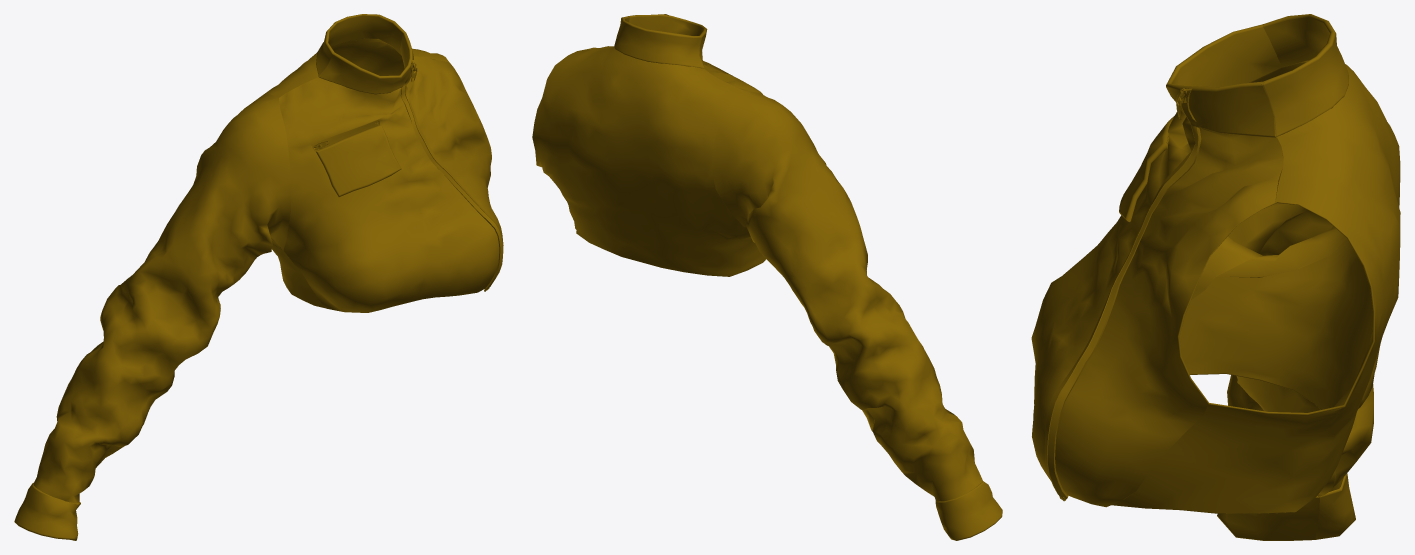
3 views of the same model, side by side, from view 1: azimuth 30°, elevation 25°; view 2: azimuth 150°, elevation 25°; view 3: azimuth 270°, elevation 25° (orthographic). The views are drawn at different scales.
Parts seen in each view (by area): view 1: hash_A580DDAF.model; view 2: hash_A580DDAF.model; view 3: hash_A580DDAF.model.
Part boxes in pixels (left/top/right/bottom): hash_A580DDAF.model: left=14, top=14, right=503, bottom=540; hash_A580DDAF.model: left=532, top=14, right=1002, bottom=540; hash_A580DDAF.model: left=1031, top=14, right=1400, bottom=540.
Size of the model in its own units: 0.7377 by 0.6858 by 0.2971.
